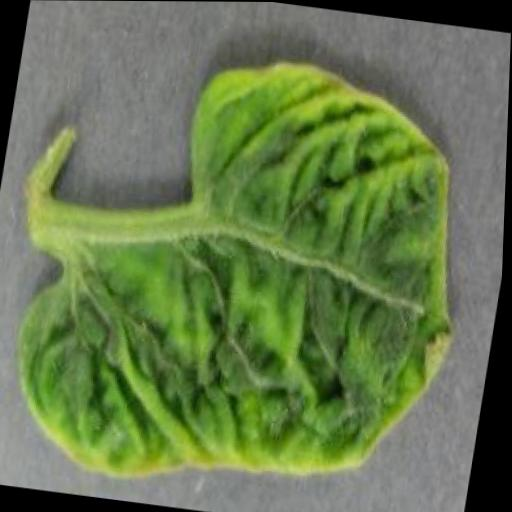Yellow Leaf Curl Virus: (0, 30, 495, 512)
